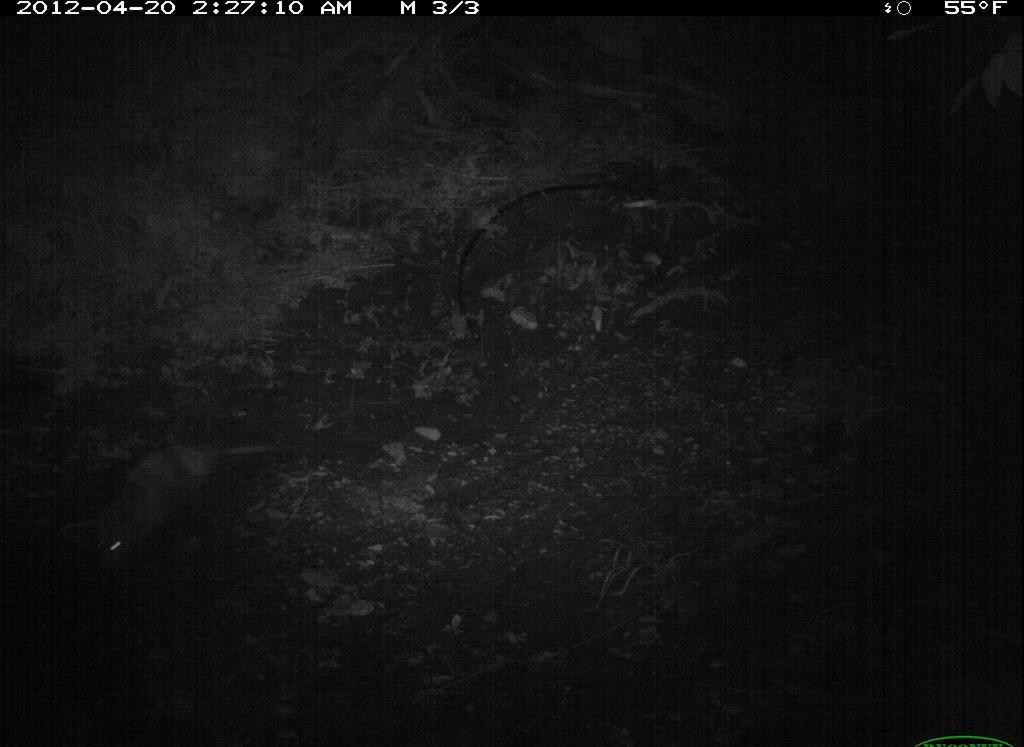opossum: (90, 431, 299, 588)
